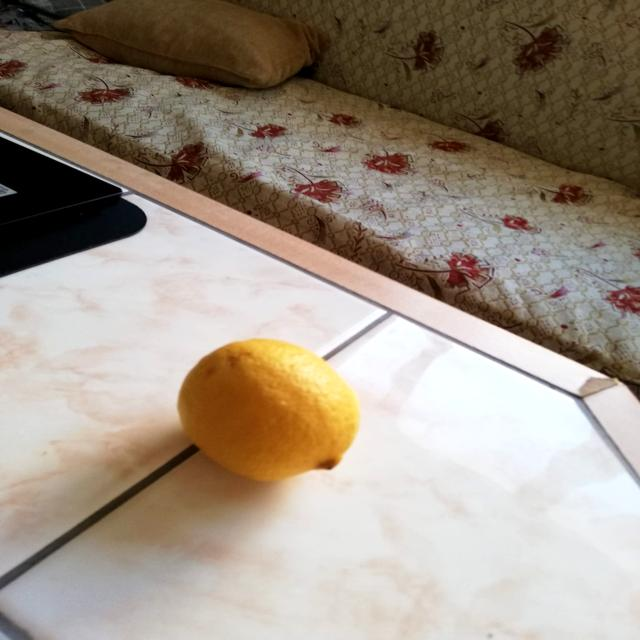lemon: (172, 334, 371, 489)
